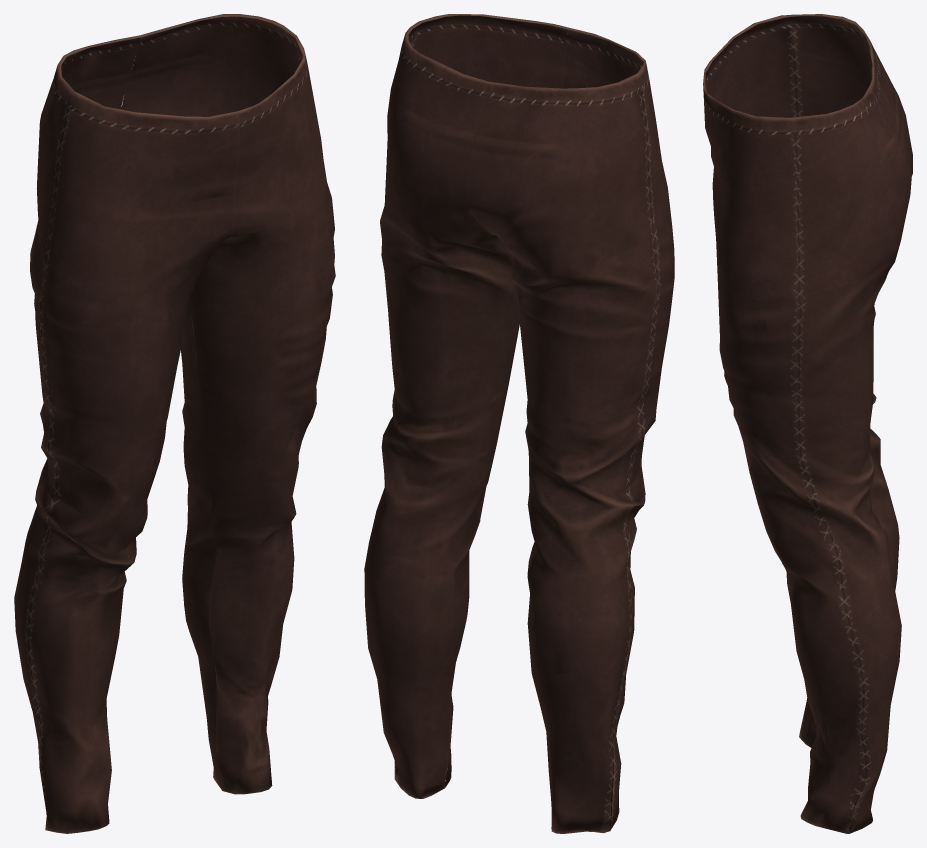
File: pants_leather.glb
3 views of the same model, side by side, from view 1: azimuth 30°, elevation 25°; view 2: azimuth 150°, elevation 25°; view 3: azimuth 270°, elevation 25° (orthographic). The views are drawn at different scales.
Parts seen in each view (by area): view 1: defaultMaterial; view 2: defaultMaterial; view 3: defaultMaterial.
Part boxes in pixels (bbox=[...]): defaultMaterial: bbox=[14, 14, 335, 833]; defaultMaterial: bbox=[364, 14, 674, 833]; defaultMaterial: bbox=[703, 14, 912, 833].
Size of the model in its own units: 37.48 by 99.34 by 26.
1 material, 1 textured.
